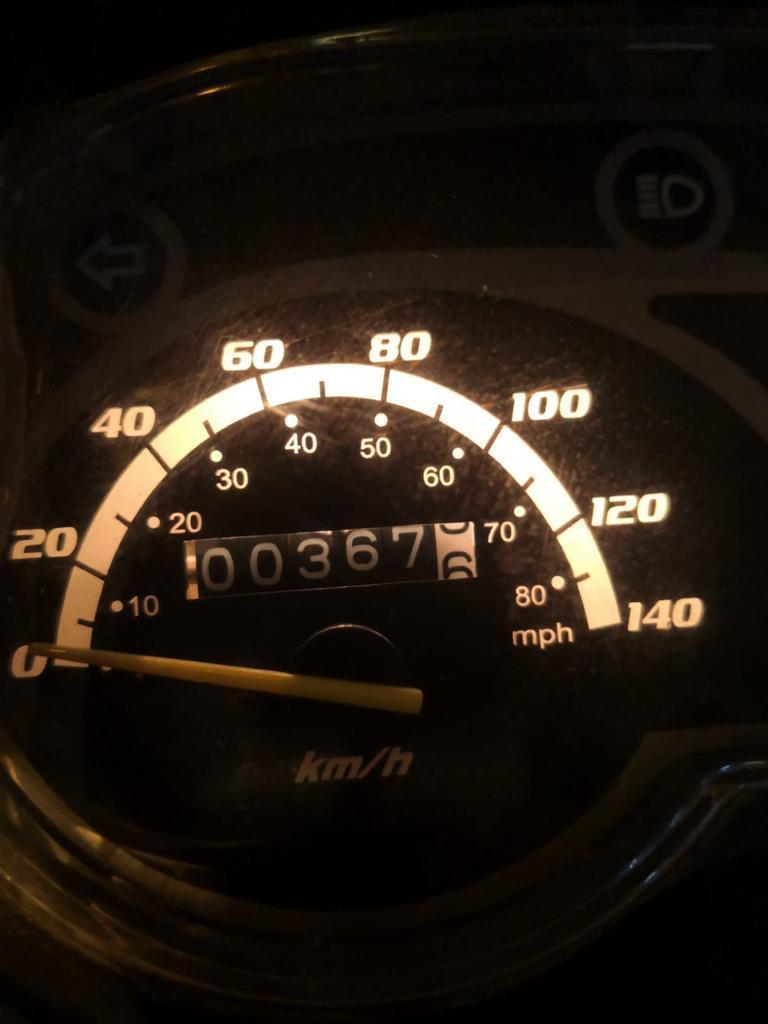0: (245, 539, 287, 588), (197, 545, 238, 593), (185, 520, 202, 534)
3: (292, 535, 334, 582)
6: (342, 526, 382, 572), (439, 548, 476, 582)
7: (388, 522, 426, 570)
odometer: (178, 520, 477, 605)
